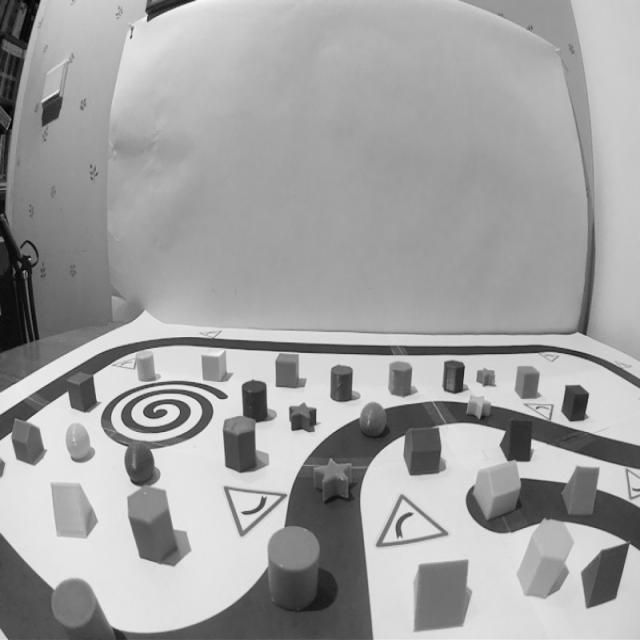ball: (121, 438, 158, 488), (63, 420, 92, 465), (358, 399, 388, 439)
cube: (64, 367, 98, 415), (559, 380, 592, 428), (198, 342, 230, 385), (272, 350, 302, 393), (513, 362, 541, 404)
cylinder: (265, 522, 324, 616), (48, 575, 119, 640), (240, 376, 270, 424), (327, 362, 355, 405), (134, 347, 158, 386)
hexagon: (512, 514, 575, 603), (121, 481, 181, 565), (221, 412, 260, 477), (387, 357, 414, 401), (440, 356, 467, 397)
home: (473, 456, 522, 522), (400, 422, 444, 480), (9, 414, 48, 468)
laneRightTurn: (278, 461, 381, 640)
nest: (100, 376, 229, 451)
star: (306, 454, 358, 504), (284, 398, 322, 437), (463, 390, 493, 424), (474, 364, 498, 391)
triangle: (411, 554, 472, 636), (578, 538, 632, 612), (48, 479, 96, 541), (558, 458, 602, 520), (497, 414, 535, 466)
